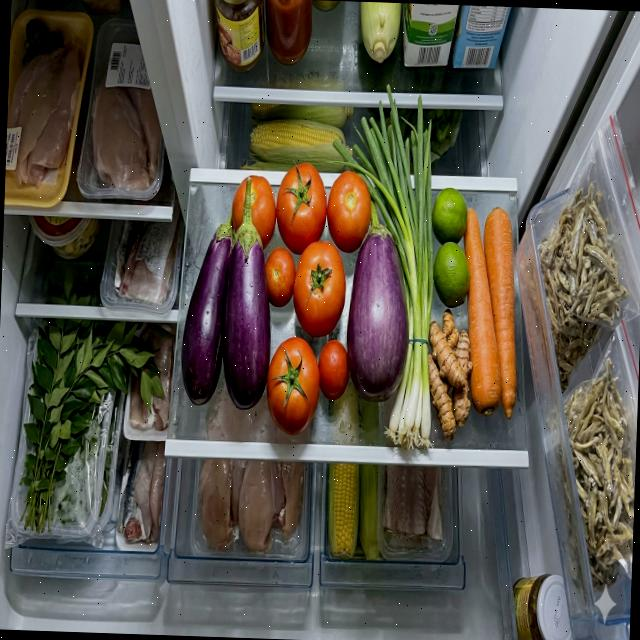anchovies: (533, 180, 633, 396), (557, 355, 639, 592)
carrot: (457, 204, 523, 418)
chicken: (5, 44, 81, 188), (90, 69, 164, 189)
corn: (248, 101, 354, 173), (326, 461, 386, 561), (358, 1, 402, 64)
curry_leaves: (18, 315, 170, 538)
eggplant: (179, 173, 277, 411), (344, 193, 414, 404)
fish: (113, 186, 181, 306), (381, 465, 446, 552), (115, 438, 167, 545)
lime: (428, 187, 472, 309)
spring_onion: (322, 81, 443, 452)
tomato: (227, 159, 373, 340), (264, 336, 351, 438)
